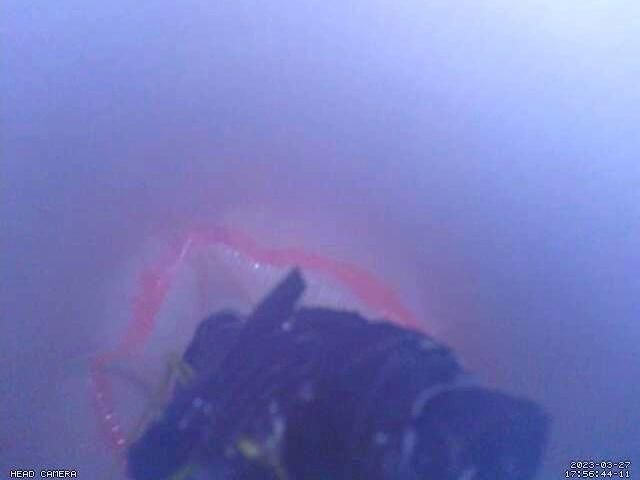head: (88, 223, 432, 468)
